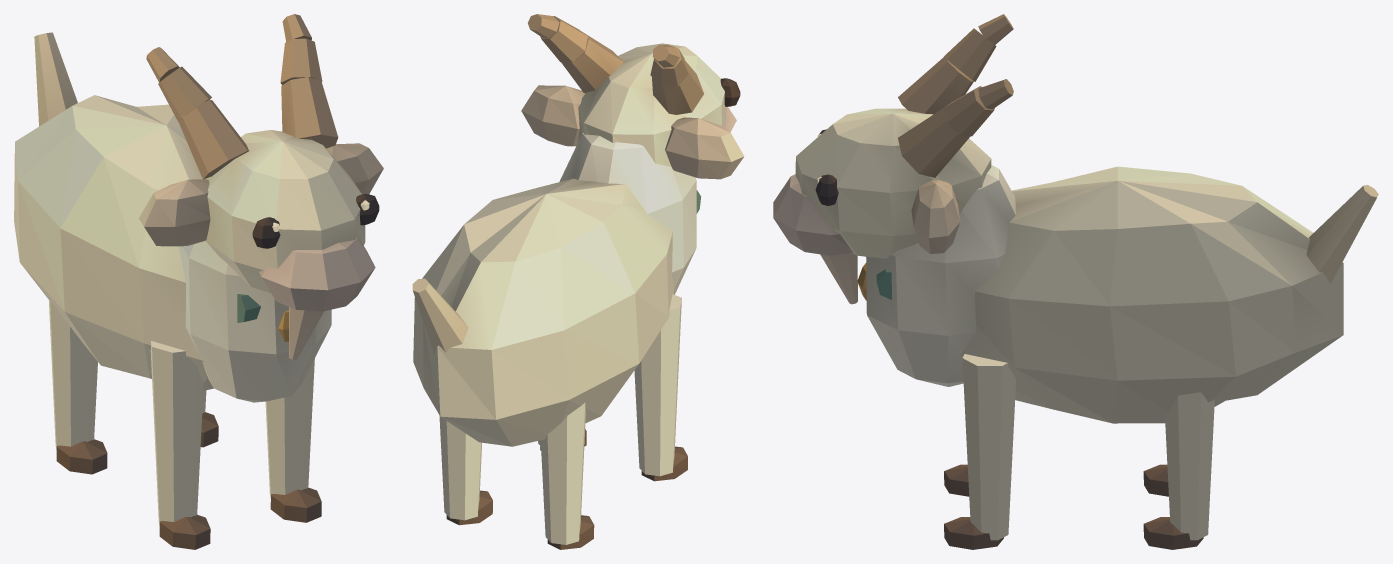
File: farm_goat.glb
The picture shows the model from 3 angles, left to right: view 1: azimuth 30°, elevation 25°; view 2: azimuth 150°, elevation 25°; view 3: azimuth 270°, elevation 25°; orthographic projection. The views are drawn at different scales.
Visible parts, largest first — view 1: farm_goat, Paw_-1_0.001, Paw_-1_-0.001, Paw_1_0.001, Paw_1_-0.001; view 2: farm_goat, Paw_-1_0.001, Paw_-1_-0.001, Paw_1_-0.001; view 3: farm_goat, Paw_1_0.001, Paw_1_-0.001.
Boxes of the visible parts, x1,y1,x2,y2 form: farm_goat: (14,14,383,402); Paw_-1_0.001: (150,341,210,549); Paw_-1_-0.001: (49,300,107,474); Paw_1_0.001: (265,358,321,522); Paw_1_-0.001: (200,390,218,447); farm_goat: (412,14,744,446); Paw_-1_0.001: (634,294,687,481); Paw_-1_-0.001: (540,403,594,549); Paw_1_-0.001: (439,415,492,525); farm_goat: (773,14,1378,423); Paw_1_0.001: (944,354,1016,549); Paw_1_-0.001: (1143,392,1214,549).
Size of the model in its own units: 0.5912 by 1.15 by 1.33.
